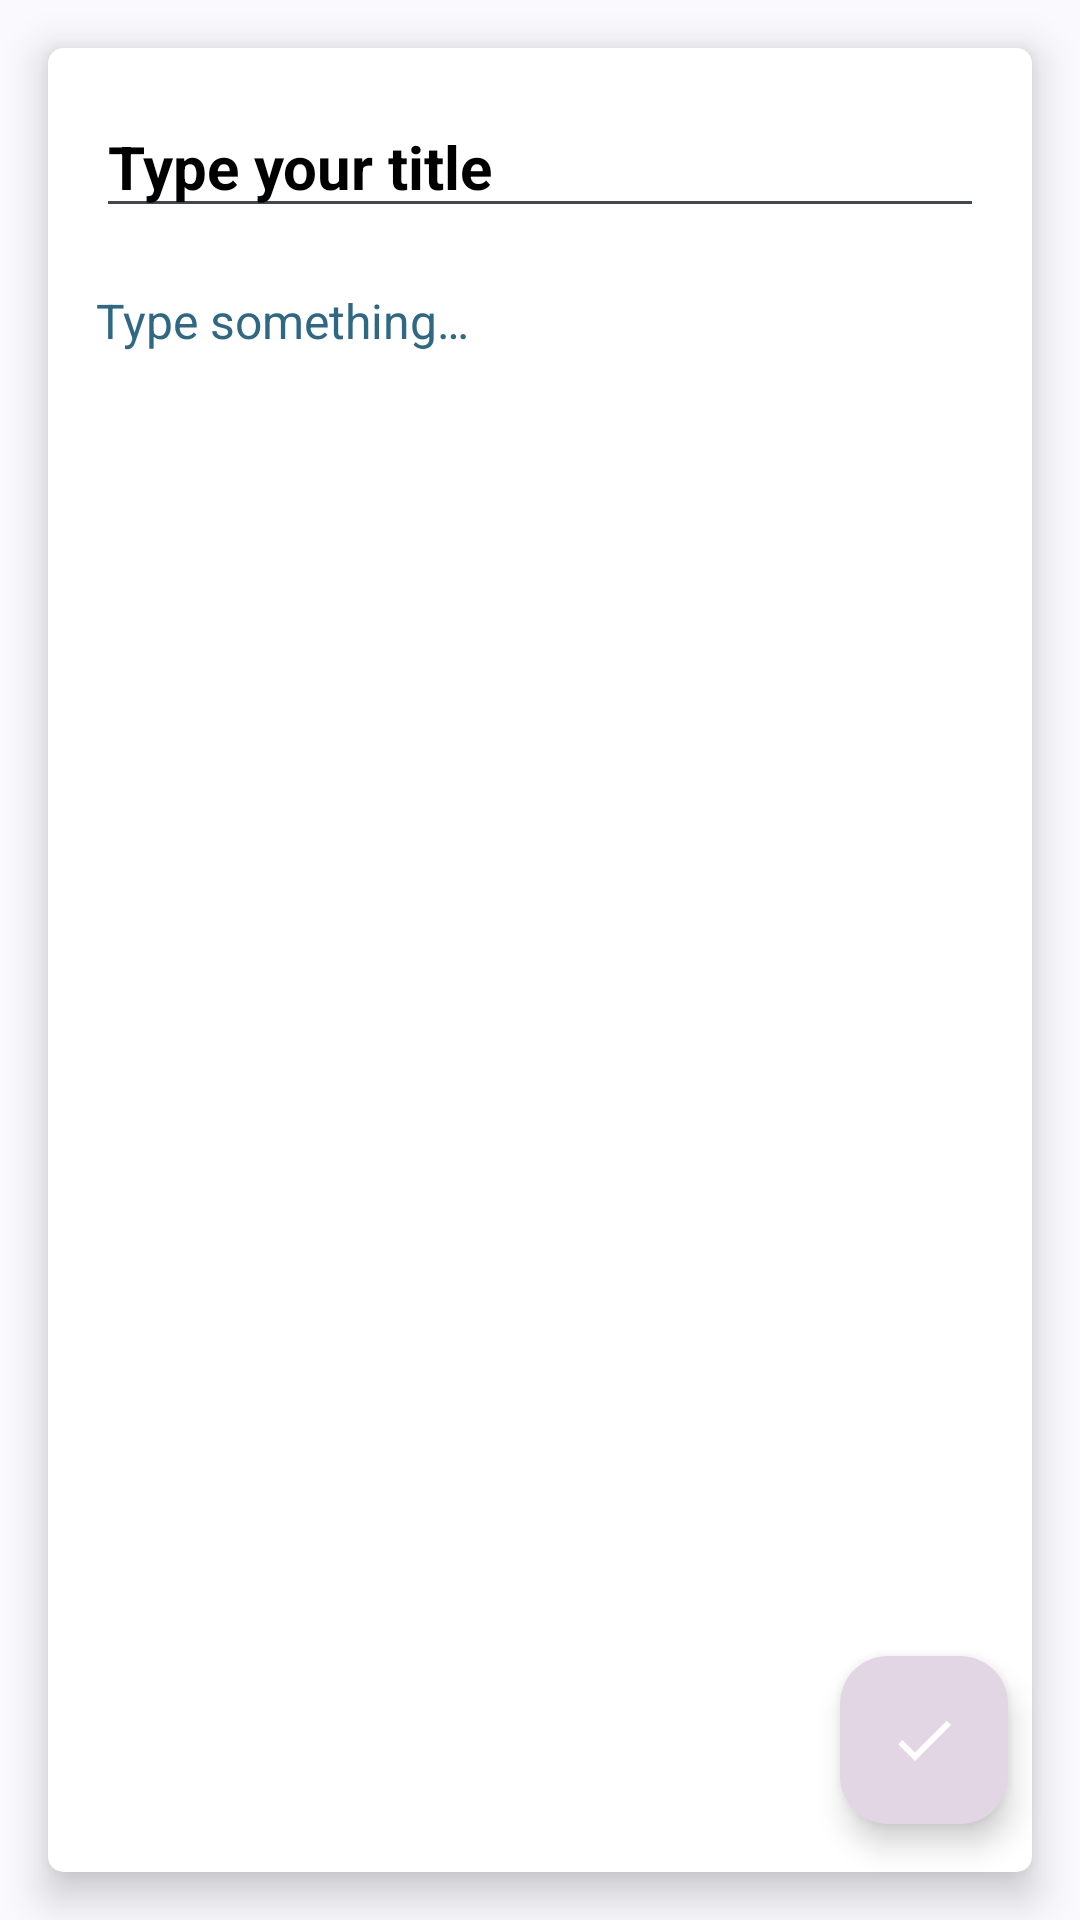

Icon bounding boxes for this 1080 x 1920 phone screenshot, format {"x1": x1, "y1": y1, "x2": x2, "y2": y2}:
done: {"x1": 840, "y1": 1656, "x2": 1008, "y2": 1824}
